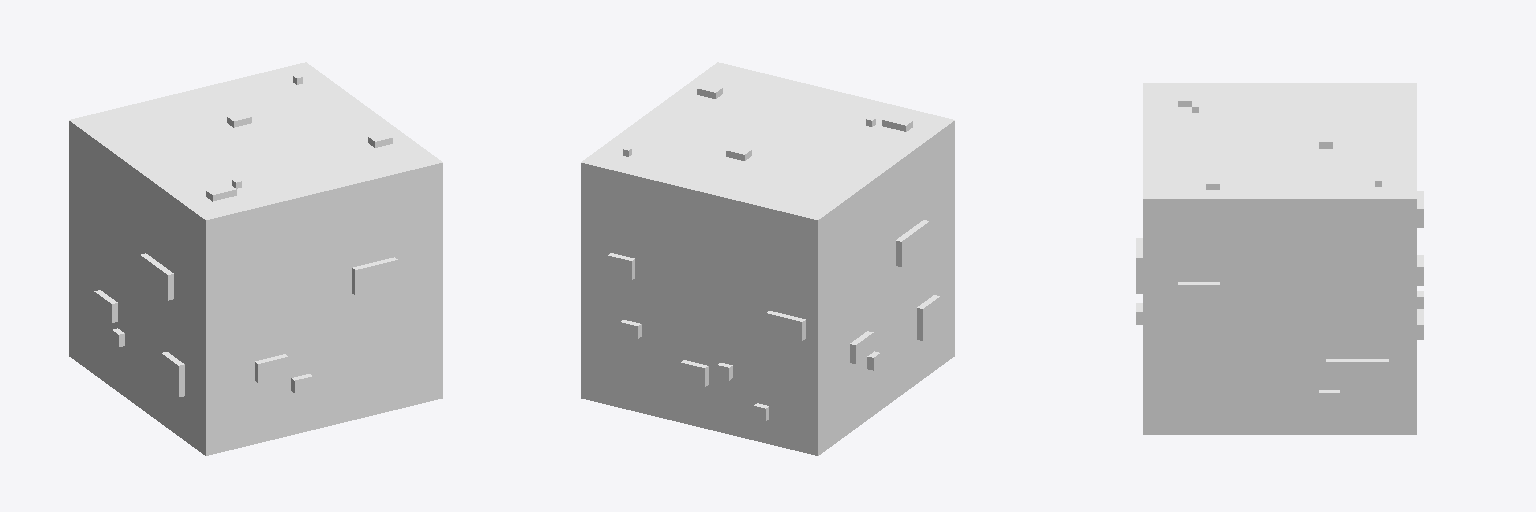
File: ground_1.obj
The picture shows the model from 3 angles: view 1: azimuth 30°, elevation 25°; view 2: azimuth 150°, elevation 25°; view 3: azimuth 270°, elevation 25°; orthographic projection.
Parts seen in each view (by area): view 1: object 1; view 2: object 1; view 3: object 1.
Boxes of the visible parts, <box> form: object 1: <box>69,62,442,455</box>; object 1: <box>581,62,954,455</box>; object 1: <box>1136,83,1423,434</box>.
Bounding box in the file's own units: 4.1 × 3.8 × 4.1.